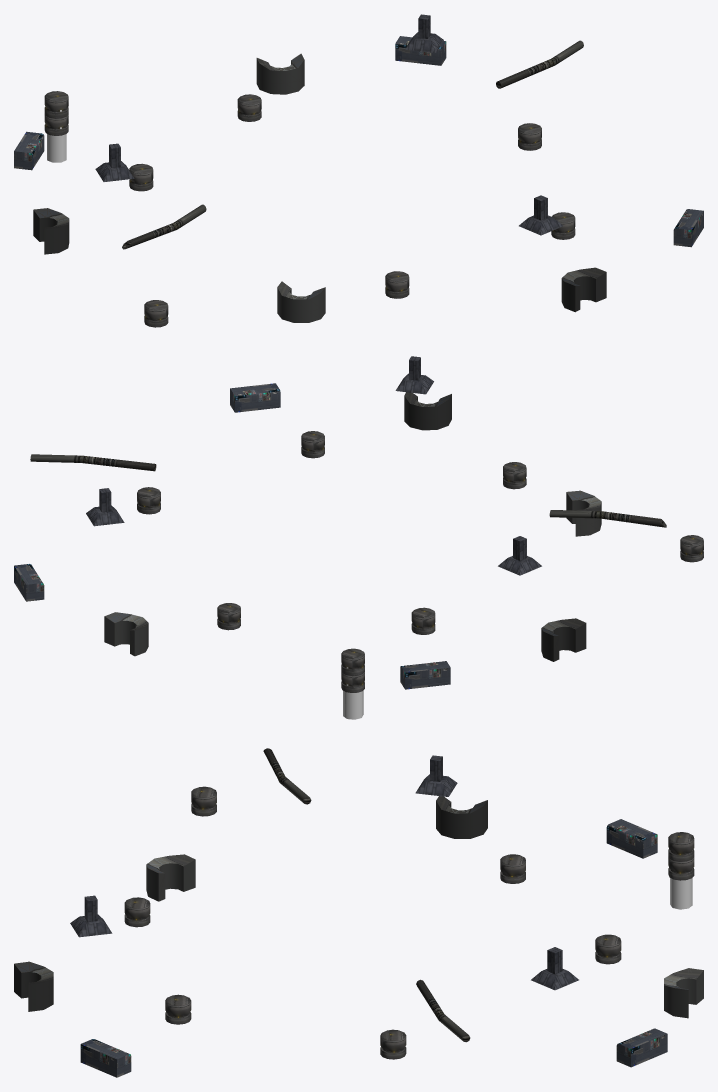
Rendered from building1_props.gltf.
3 views of the same model, one above another, from view 1: azimuth 30°, elevation 25°; view 2: azimuth 150°, elevation 25°; view 3: azimuth 270°, elevation 25° (orthographic). The views are drawn at different scales.
Parts seen in each view (by area): view 1: cylinder28, cylinder30, cylinder32, cylinder31, cube35, cube33, cube34, cube38, cylinder52, cube37, cube36, cylinder53 (+8 smaller); view 2: cylinder31, cylinder32, cylinder28, cube33, cube35, cylinder30, cylinder52, cylinder53, cube34, cube36, cube37, cube38 (+8 smaller); view 3: cylinder30, cylinder31, cylinder28, cylinder32, cube35, cube34, cube33, cube37, cube38, cube36, cylinder57, cylinder55 (+9 smaller).
Part boxes in pixels (bbox=[...]): cylinder28: bbox=[561, 267, 606, 312]; cylinder30: bbox=[277, 281, 325, 322]; cylinder32: bbox=[256, 53, 304, 94]; cylinder31: bbox=[33, 208, 69, 254]; cube35: bbox=[14, 131, 44, 170]; cube33: bbox=[673, 209, 703, 247]; cube34: bbox=[395, 36, 446, 65]; cube38: bbox=[519, 195, 563, 235]; cylinder52: bbox=[496, 40, 583, 88]; cube37: bbox=[405, 14, 443, 52]; cube36: bbox=[95, 143, 134, 181]; cylinder53: bbox=[122, 204, 206, 249]; cylinder31: bbox=[541, 618, 586, 661]; cylinder32: bbox=[104, 612, 148, 656]; cylinder28: bbox=[404, 392, 451, 430]; cube33: bbox=[230, 383, 280, 412]; cube35: bbox=[400, 661, 450, 689]; cylinder30: bbox=[566, 490, 601, 536]; cylinder52: bbox=[30, 454, 156, 471]; cylinder53: bbox=[549, 510, 666, 527]; cube34: bbox=[14, 564, 44, 601]; cube36: bbox=[498, 536, 541, 575]; cube37: bbox=[86, 488, 124, 526]; cube38: bbox=[395, 356, 433, 394]; cylinder30: bbox=[146, 854, 195, 901]; cylinder31: bbox=[436, 796, 487, 838]; cylinder28: bbox=[14, 961, 53, 1011]; cylinder32: bbox=[664, 968, 703, 1018]; cube35: bbox=[606, 819, 657, 858]; cube34: bbox=[616, 1028, 667, 1067]; cube33: bbox=[80, 1039, 131, 1077]; cube37: bbox=[531, 947, 578, 990]; cube38: bbox=[70, 895, 112, 937]; cube36: bbox=[415, 755, 457, 796]; cylinder57: bbox=[595, 934, 621, 964]; cylinder55: bbox=[124, 897, 150, 927].
Bounding box in the file's own units: 4.01 × 0.7495 × 3.98.
Materials: 6 (5 with a texture image).
